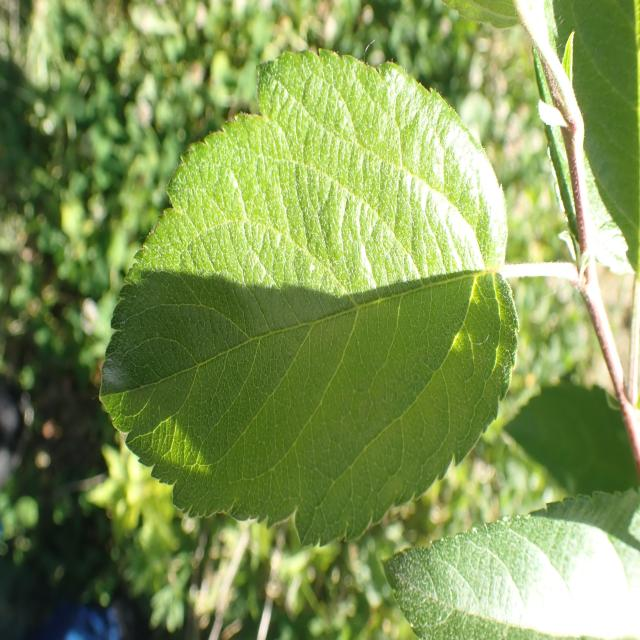healthy: (98, 48, 520, 549), (383, 488, 640, 640), (550, 0, 640, 275)
